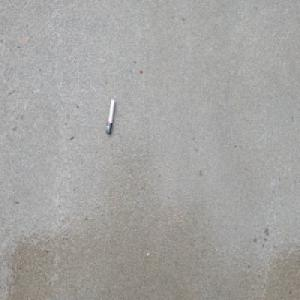Battery: (106, 98, 116, 135)
